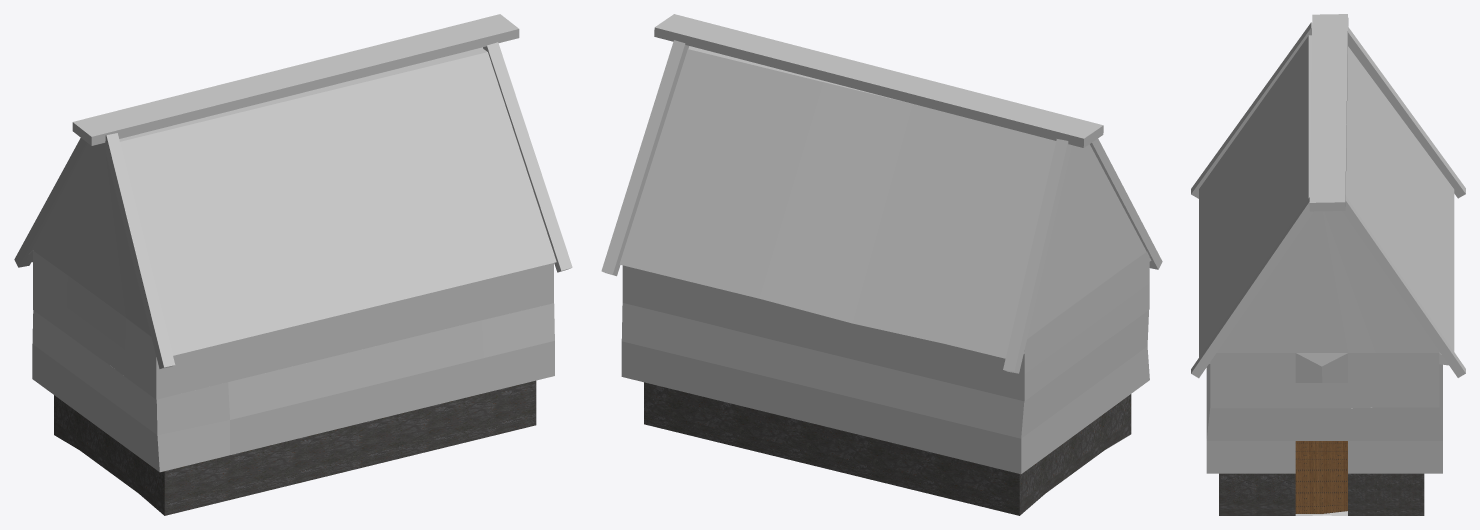
The model's file is wood2.fbx.
3 renders of one model, left to right at view 1: azimuth 30°, elevation 25°; view 2: azimuth 150°, elevation 25°; view 3: azimuth 270°, elevation 25°, orthographic. The views are drawn at different scales.
Visible parts, largest first — view 1: Cube, Cube.005, Cube.003, Cube.004, Cube.002; view 2: Cube, Cube.005, Cube.002, Cube.071, Cube.003; view 3: Cube, Cube.005, Cube.071, Cube.004, Cube.002, Cube.003.
Boxes of the visible parts, x1,y1,x2,y2 form: Cube: (26, 47, 556, 515); Cube.005: (72, 14, 519, 145); Cube.003: (103, 133, 175, 368); Cube.004: (483, 42, 572, 272); Cube.002: (14, 138, 87, 267); Cube: (619, 46, 1151, 515); Cube.005: (654, 14, 1103, 147); Cube.002: (1003, 139, 1072, 373); Cube.071: (601, 40, 688, 276); Cube.003: (1090, 138, 1162, 269); Cube: (1199, 35, 1454, 515); Cube.005: (1309, 14, 1348, 211); Cube.071: (1342, 196, 1465, 377); Cube.004: (1191, 197, 1313, 378); Cube.002: (1348, 27, 1465, 198); Cube.003: (1191, 22, 1312, 198).
Size of the model in its own units: 1950 by 1545 by 1173.
